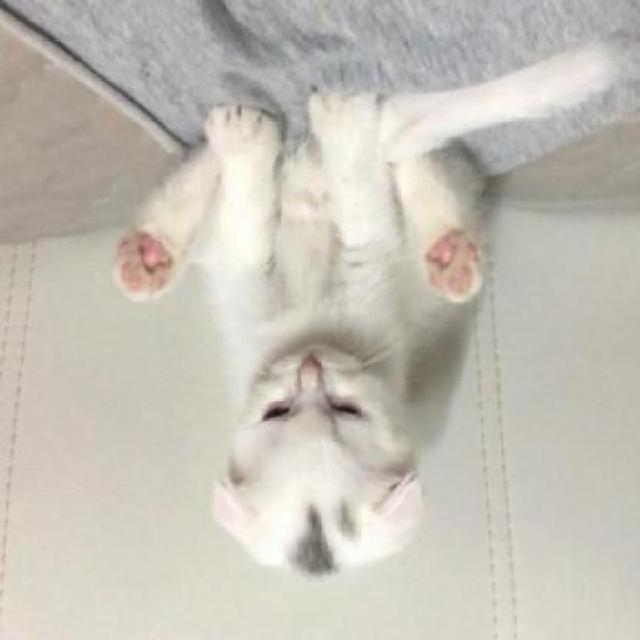cat: (111, 81, 494, 601)
